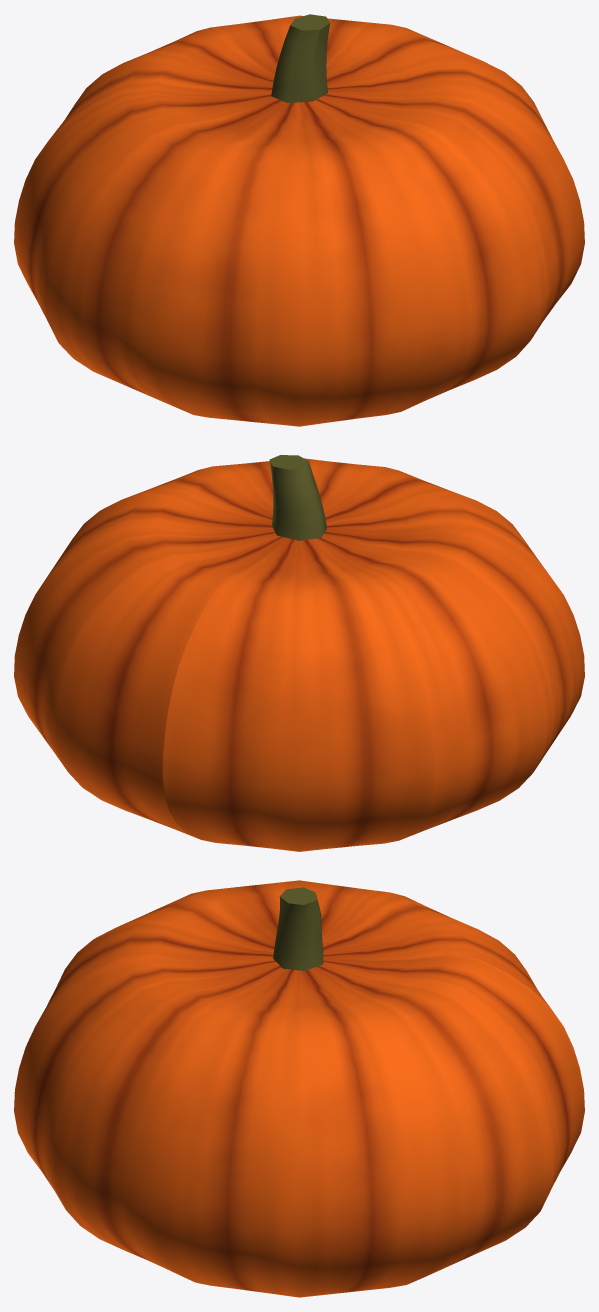
File: bertha.glb
3 views of the same model, one above another, from view 1: azimuth 30°, elevation 25°; view 2: azimuth 150°, elevation 25°; view 3: azimuth 270°, elevation 25° (orthographic). The views are drawn at different scales.
Parts seen in each view (by area): view 1: body, stem; view 2: body, stem; view 3: body, stem.
Part boxes in pixels (x1,y1,x2,y2): body: (14, 15, 584, 426); stem: (271, 14, 330, 102); body: (14, 458, 584, 851); stem: (269, 455, 326, 540); body: (14, 880, 584, 1297); stem: (273, 887, 323, 971).
Bounding box in the file's own units: 2.31 × 1.44 × 2.23.
2 materials, 1 textured.
